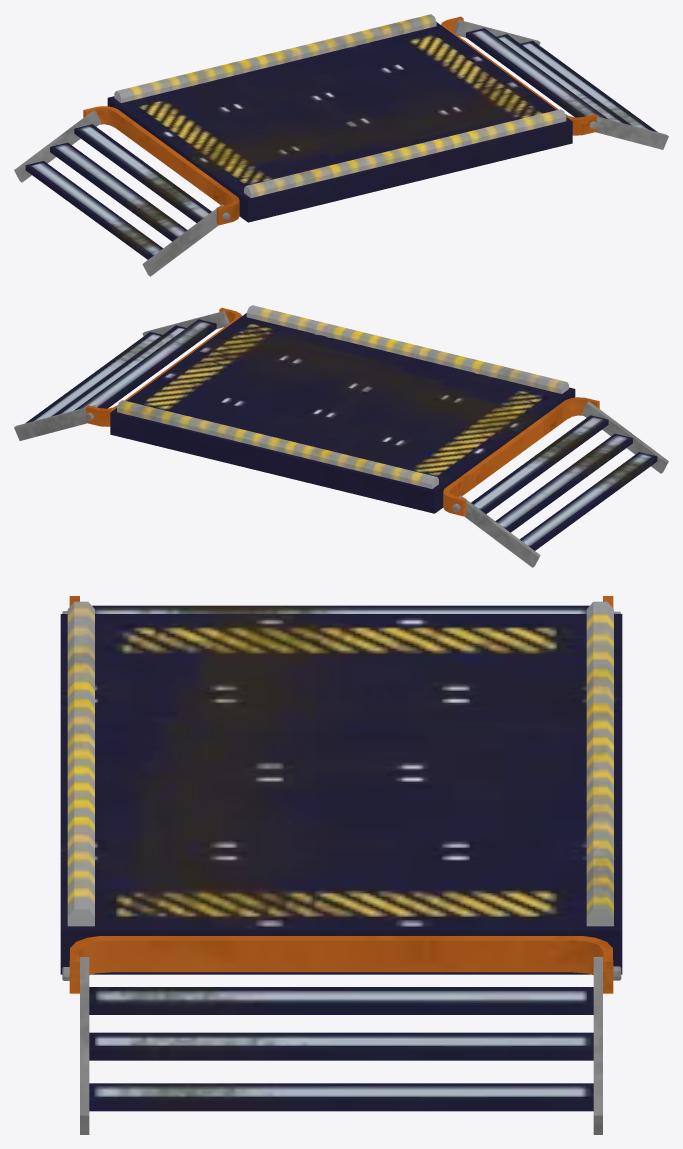
The model's file is catwalk-bridge.glb.
The picture shows the model from 3 angles, top to bottom: view 1: azimuth 30°, elevation 25°; view 2: azimuth 150°, elevation 25°; view 3: azimuth 270°, elevation 25°; orthographic projection. The views are drawn at different scales.
Visible parts, largest first — view 1: Object_2; view 2: Object_2; view 3: Object_2.
Boxes of the visible parts, x1,y1,x2,y2 form: Object_2: (14, 14, 668, 276); Object_2: (14, 305, 668, 567); Object_2: (60, 596, 622, 1134).
Size of the model in its own units: 6.46 by 0.7703 by 3.
Materials: 1 (1 with a texture image).
